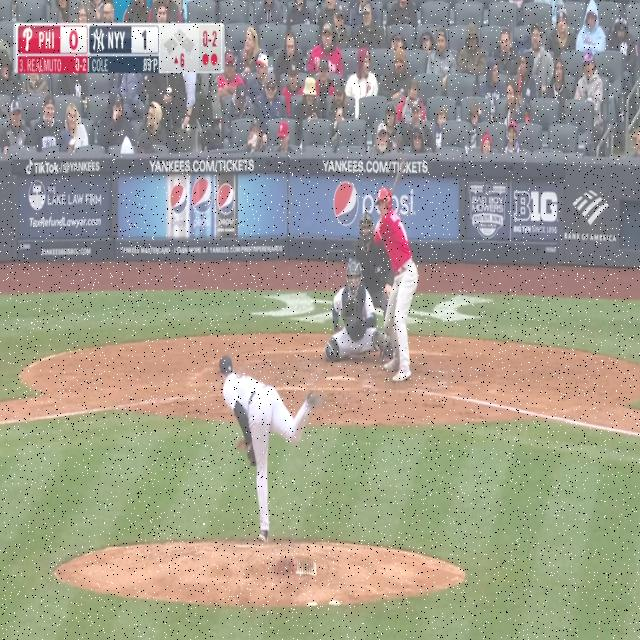baseball: (334, 296, 339, 305)
